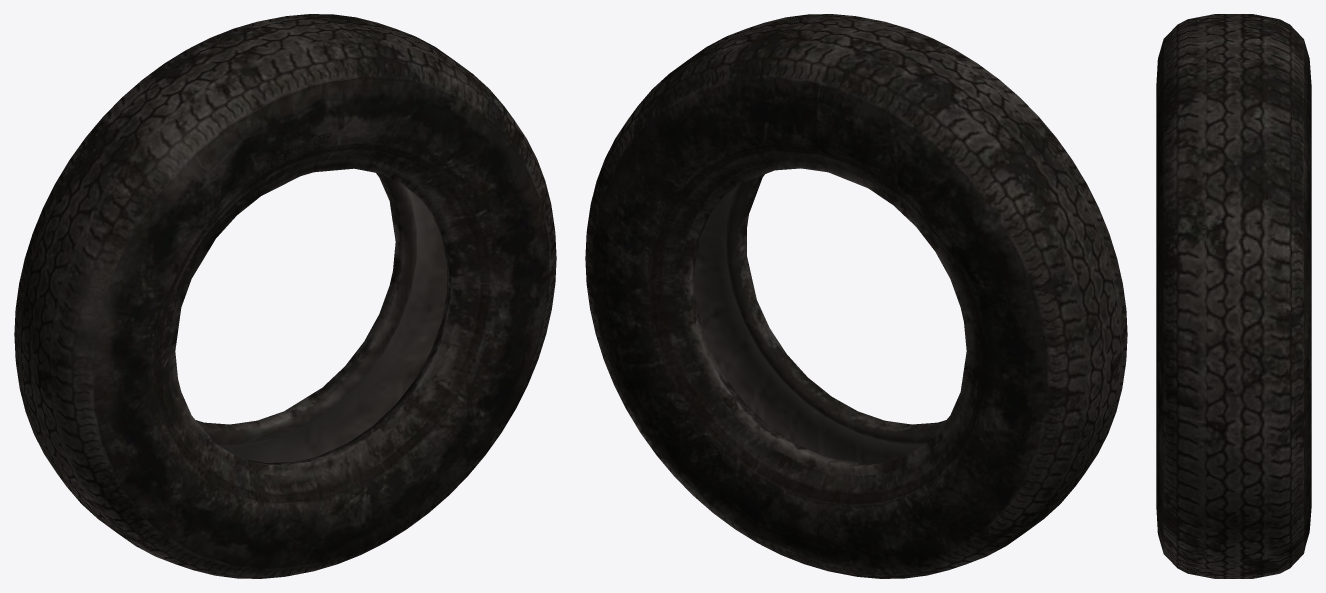
The model's file is old_tyre.glb.
3 renders of one model, left to right at view 1: azimuth 30°, elevation 25°; view 2: azimuth 150°, elevation 25°; view 3: azimuth 270°, elevation 25°, orthographic. The views are drawn at different scales.
Parts seen in each view (by area): view 1: old_tyre; view 2: old_tyre; view 3: old_tyre.
Part boxes in pixels (left/top/right/bottom): old_tyre: left=14, top=14, right=556, bottom=578; old_tyre: left=585, top=14, right=1127, bottom=578; old_tyre: left=1156, top=14, right=1311, bottom=578.
Bounding box in the file's own units: 0.6 × 0.6 × 0.165.
1 material, 1 textured.
